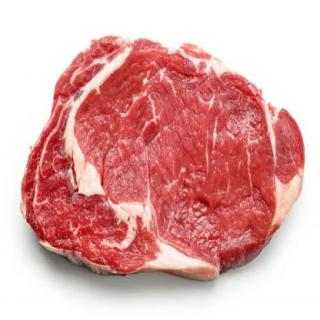Daging Sapi: (24, 36, 307, 274)
